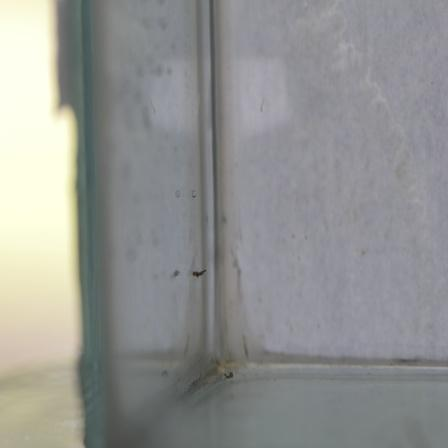Jentik-Nyamuk: (189, 267, 208, 282), (219, 367, 237, 382)
